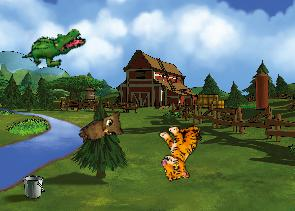crocodile: (20, 14, 88, 81)
owl: (76, 106, 130, 155)
tiger: (153, 120, 208, 182)
